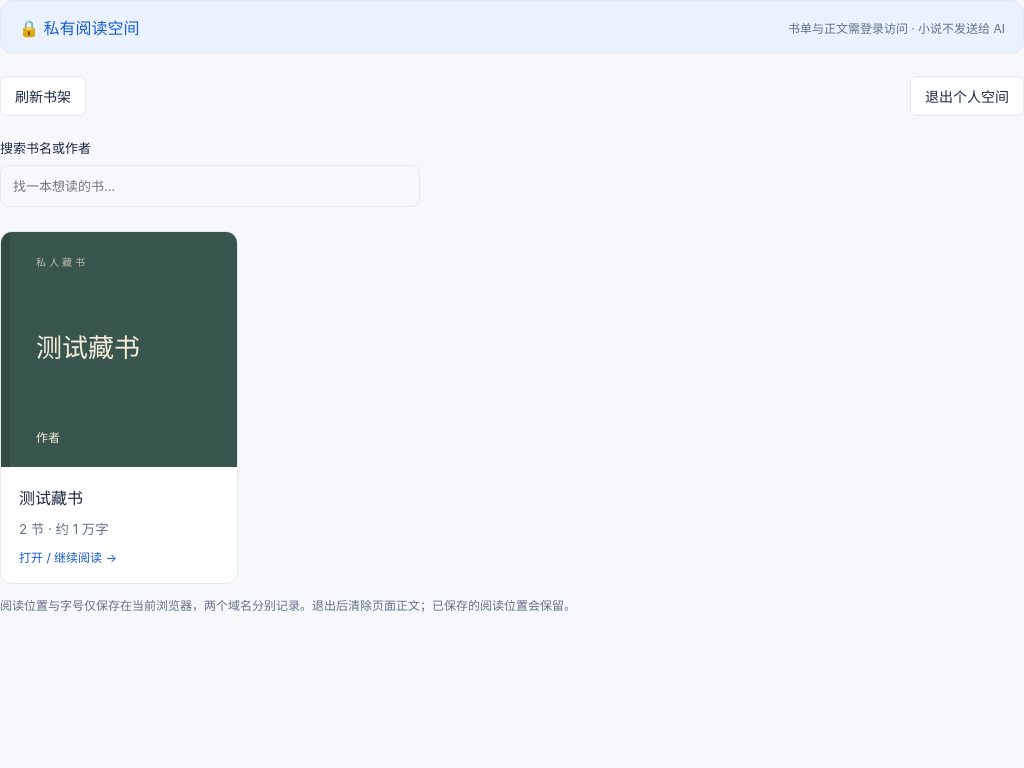
Scenario: native fullscreen state follows browser exit and request rejection keeps reading mode
Click the button "私人藏书 测试藏书 作者 测试藏书 2 节 · 约 1 万字 打开 / 继续阅读 →". click: (119, 408)
box: [0, 231, 238, 584]
(page scrolled)
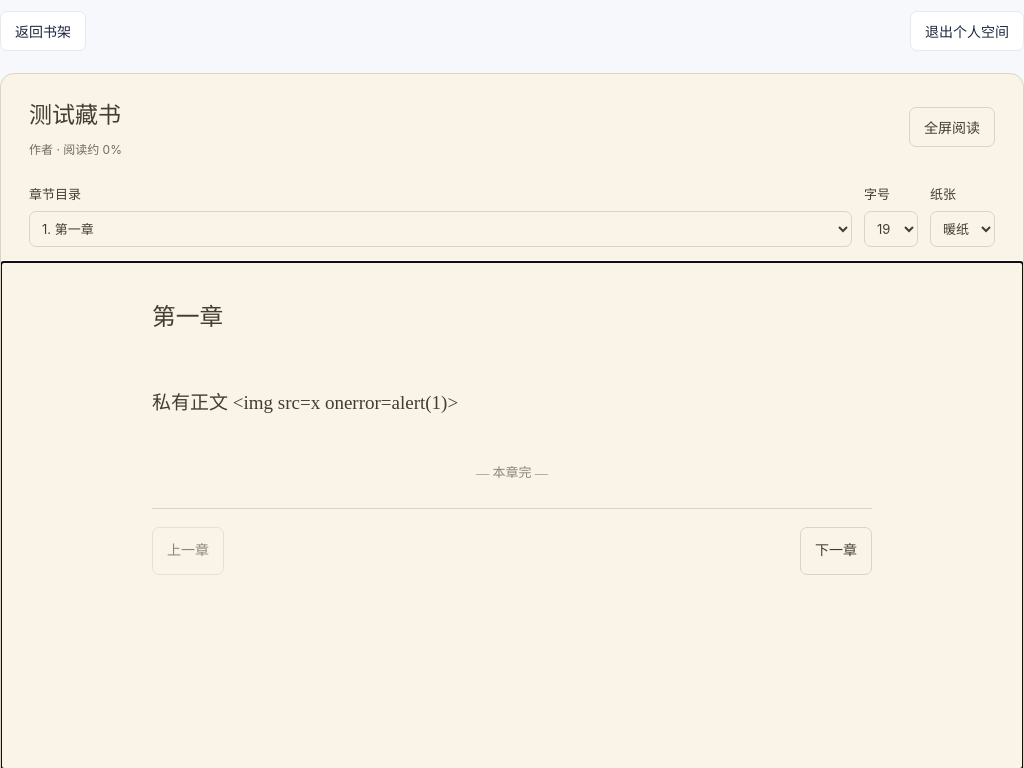
Expected: the element named "小说正文" is shown, [152, 304, 872, 593]
Click the button "全屏阅读". click: (952, 127)
box: [909, 107, 995, 147]
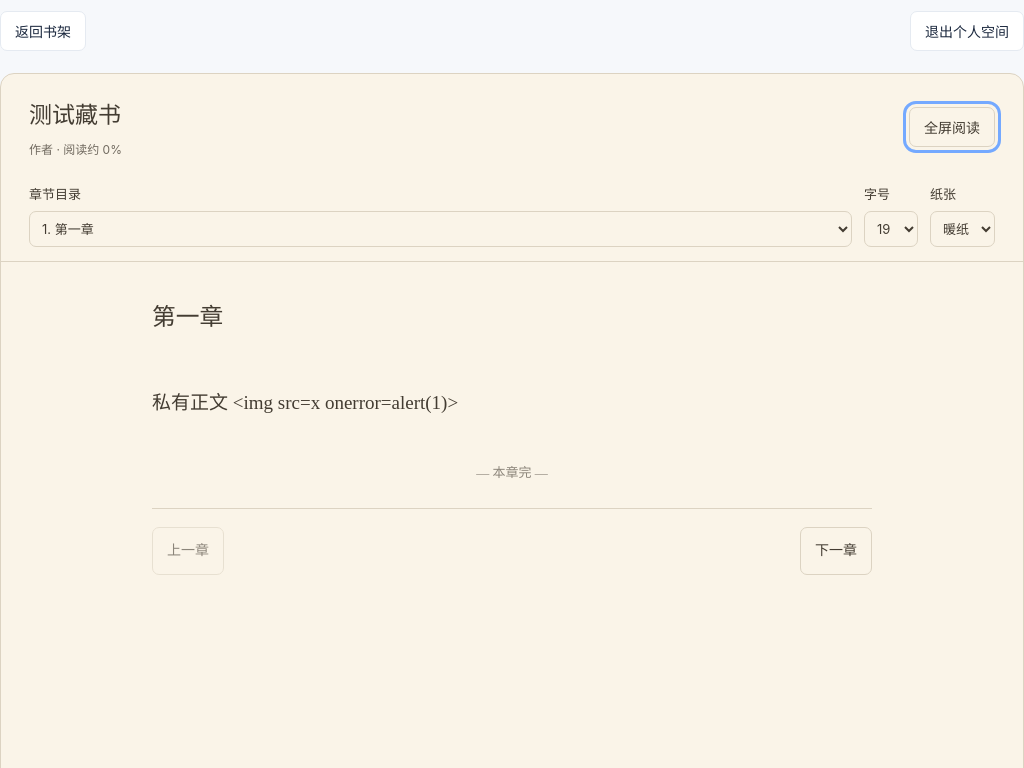
Click the button "全屏阅读". click: (952, 127)
box: [909, 107, 995, 147]
(page scrolled)
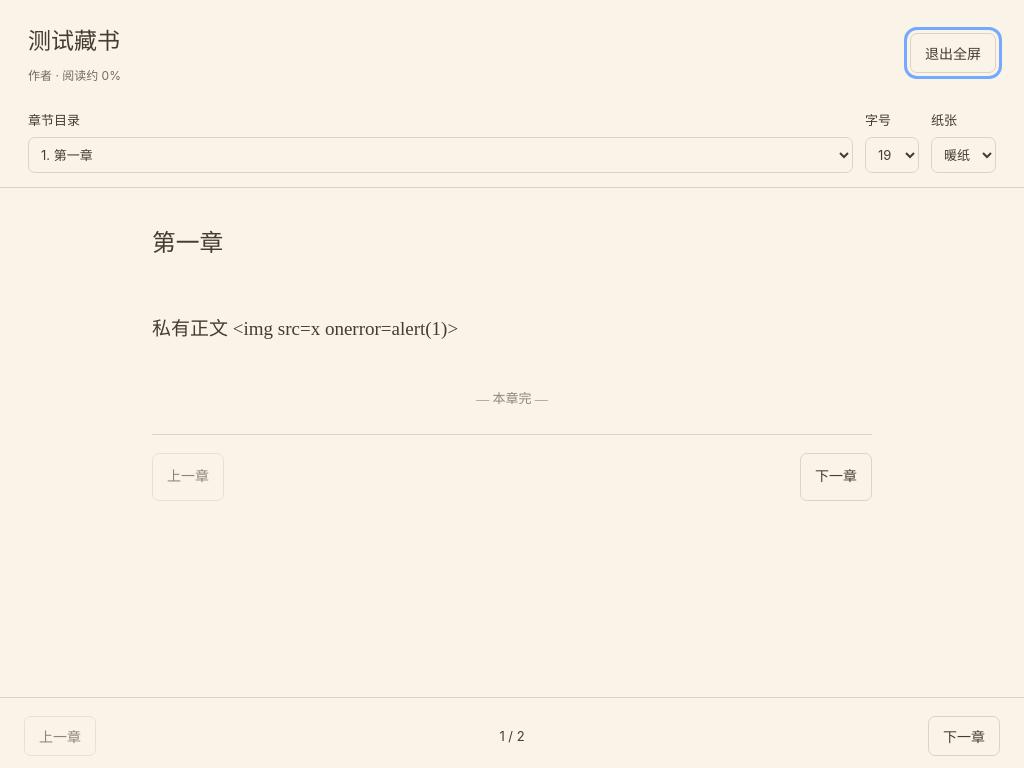
Expected: the button "退出全屏" is shown, [910, 33, 996, 73]
